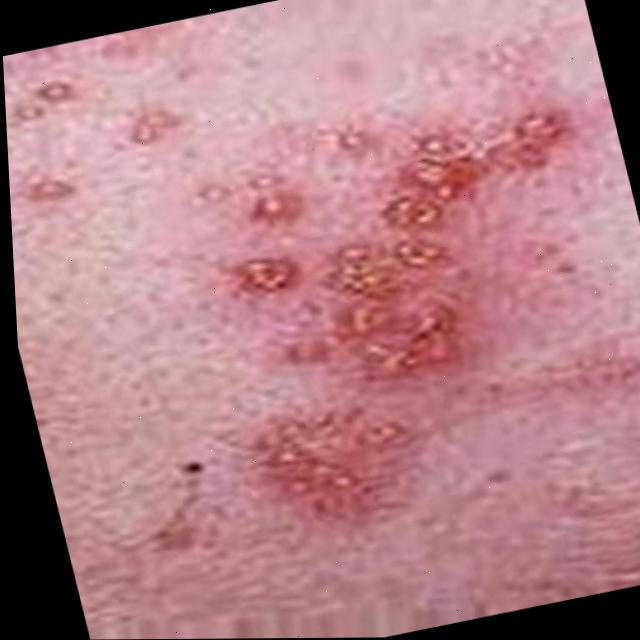Shingles: (160, 67, 640, 530)
